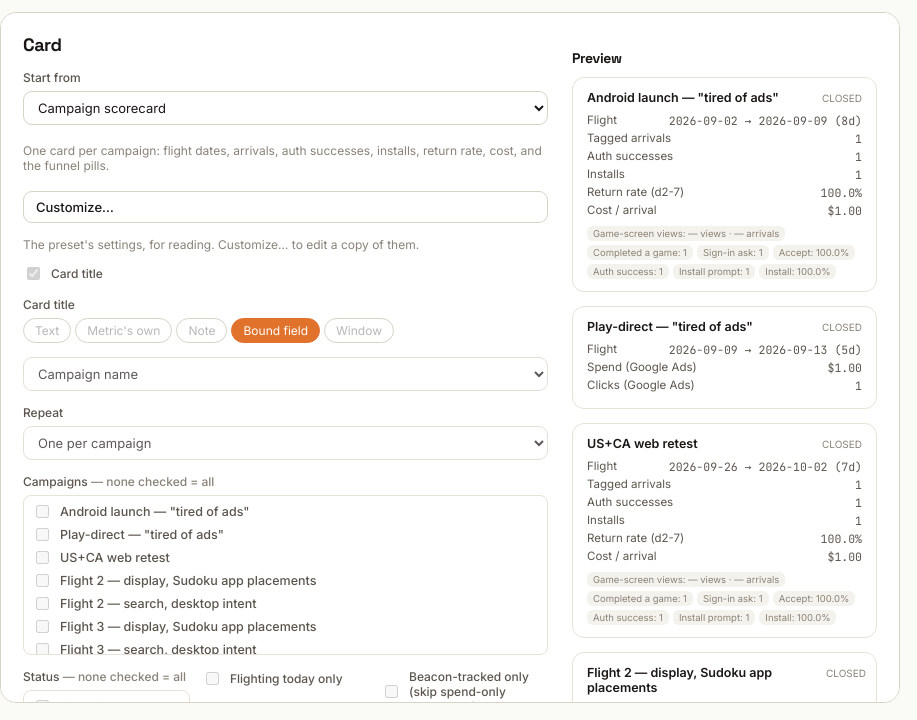
badge colour rows flag a duplicate or empty text instead of dropping or storing it › switching the badge off and on drops a flagged row's draft
The width and height of the screenshot is (917, 720).
Click the button "Customize…": (75, 207) [23, 191, 548, 223]
(page scrolled)
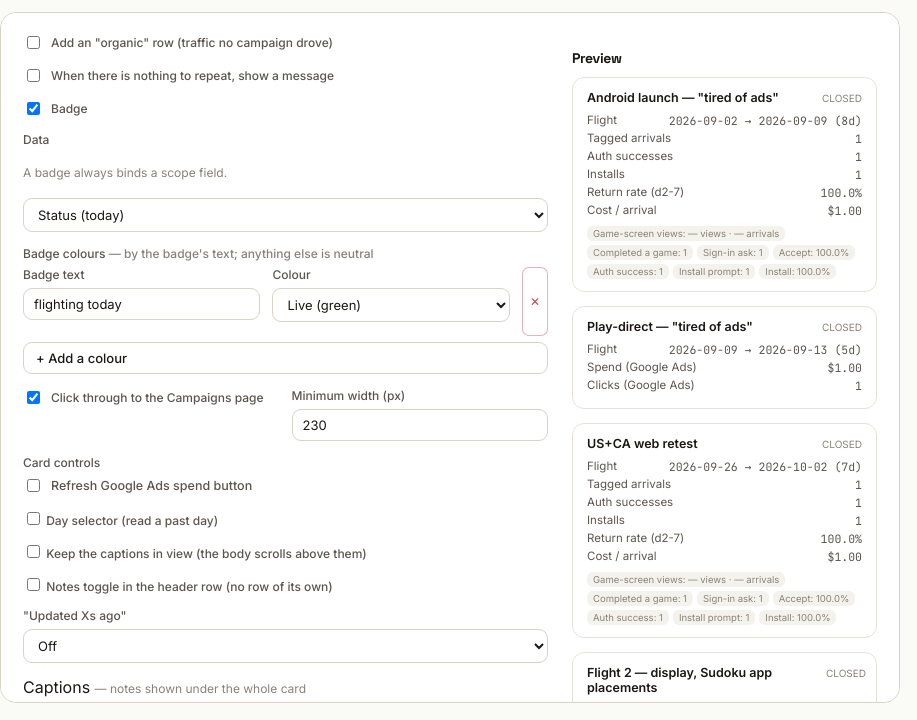
Click the button "+ Add a colour": (81, 358) [23, 342, 548, 374]
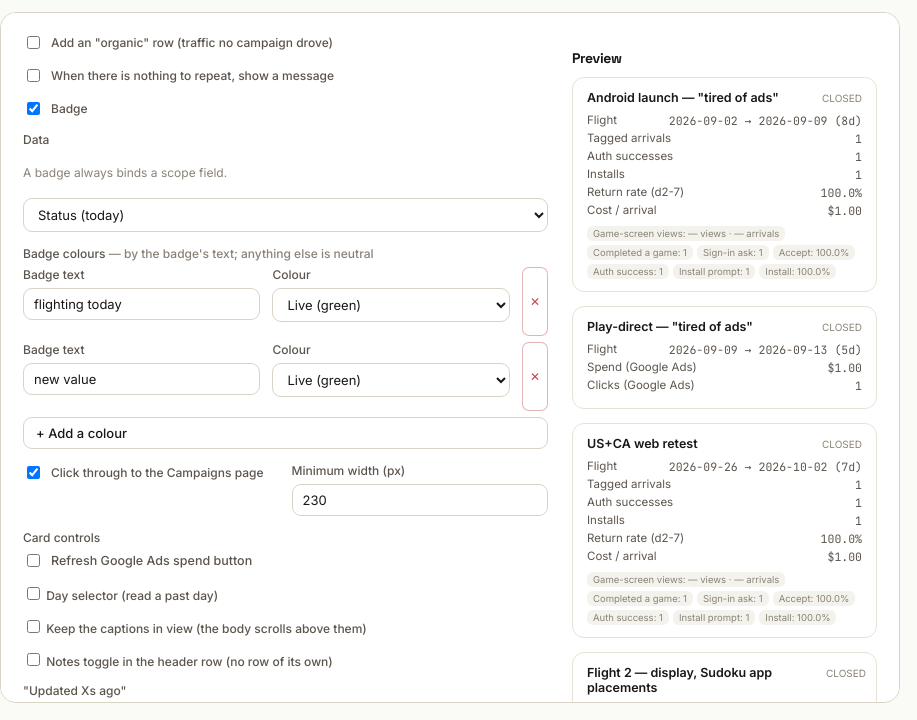
Clear the 2nd field labelled "Badge text": (142, 379) [23, 363, 260, 395]
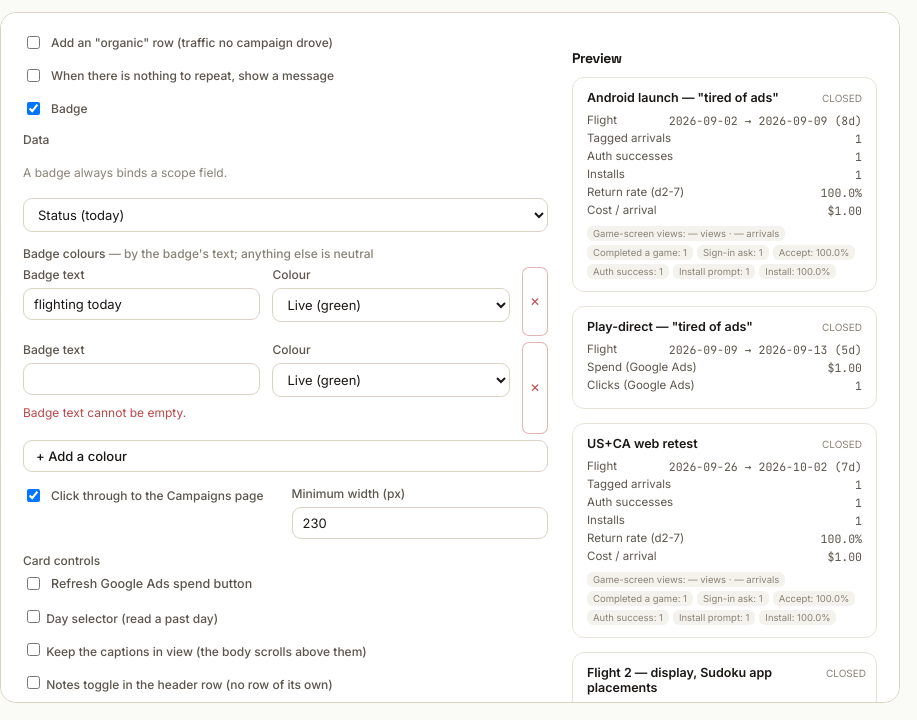
Click the checkbox labelled "Badge": (34, 108) [27, 102, 40, 115]
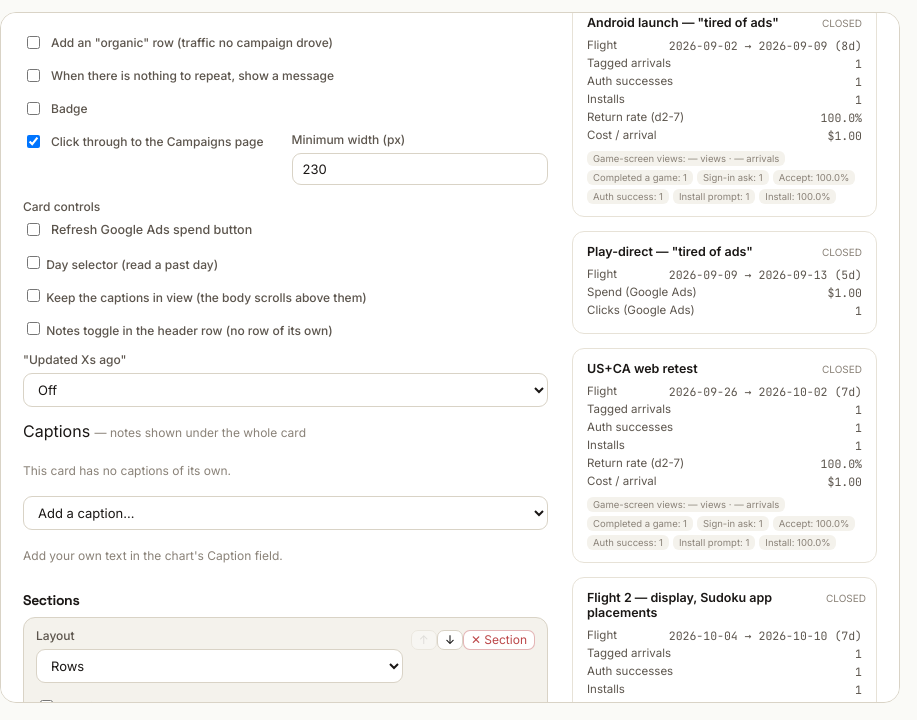
Click the checkbox labelled "Badge": (34, 108) [27, 102, 40, 115]
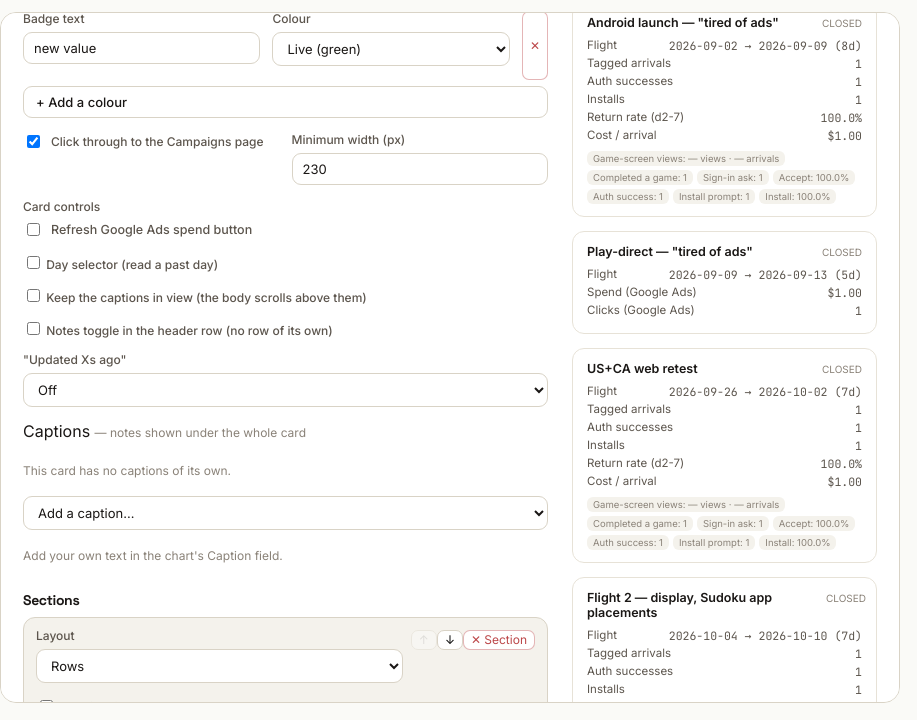
Check: the field labelled "Badge text" holds "new value", box [23, 32, 260, 64]
